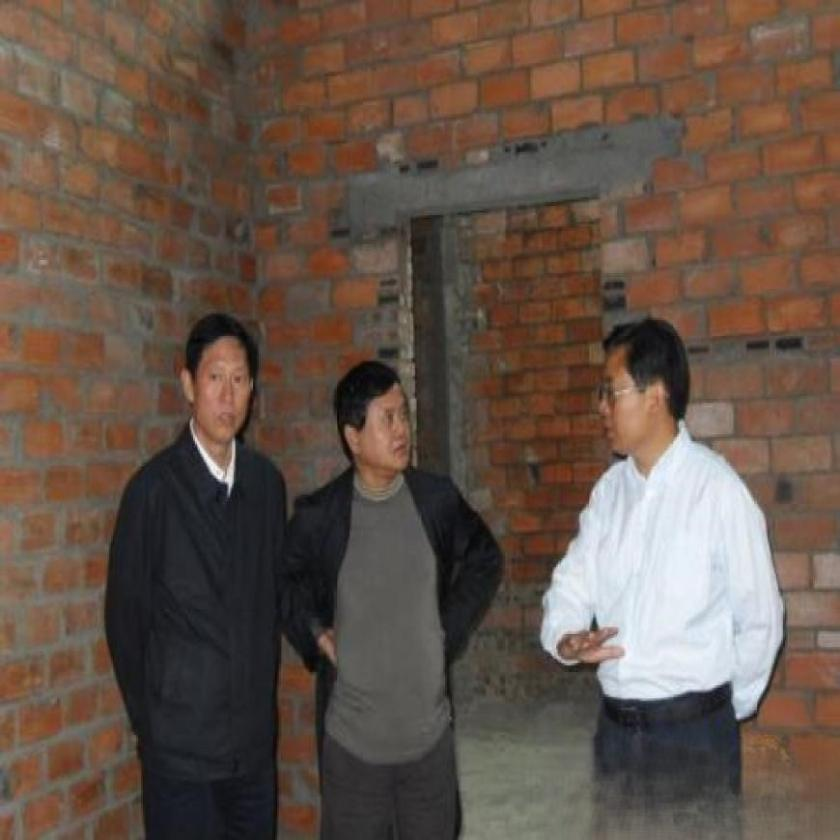Sin_casco: (581, 322, 703, 460), (172, 309, 265, 461), (329, 354, 415, 493)
